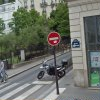crosswalk: (0, 82, 45, 100)
